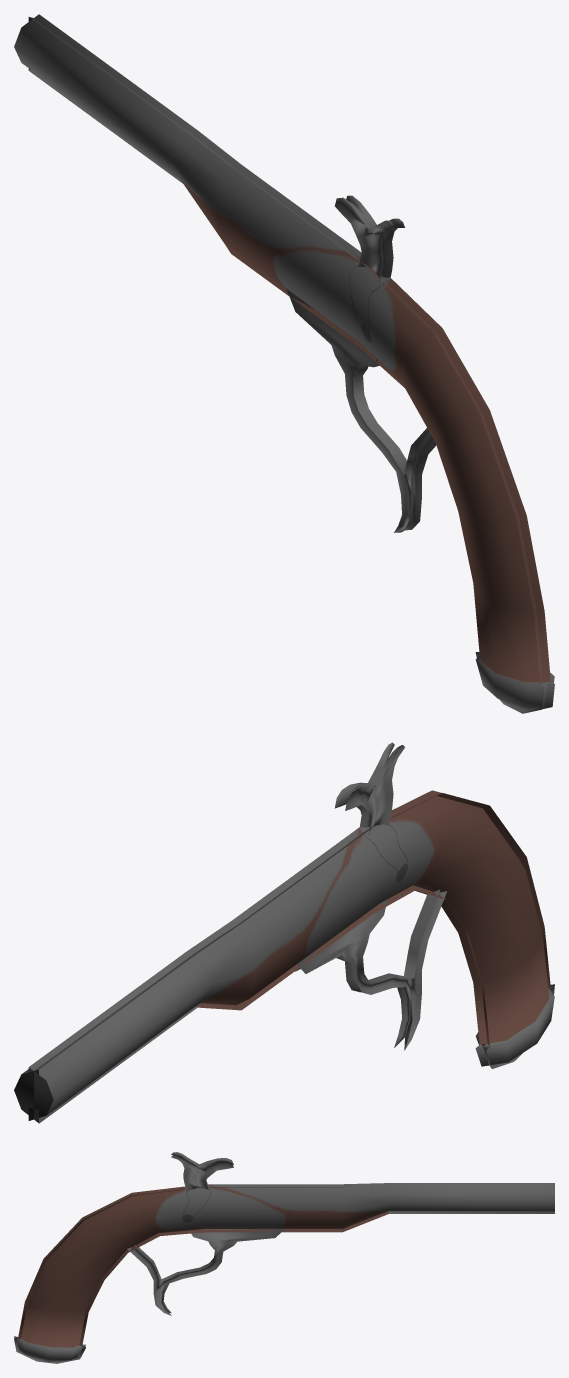
File: RangedJack.fbx
3 views of the same model, one above another, from view 1: azimuth 30°, elevation 25°; view 2: azimuth 150°, elevation 25°; view 3: azimuth 270°, elevation 25° (orthographic). The views are drawn at different scales.
Parts seen in each view (by area): view 1: Circle; view 2: Circle; view 3: Circle.
Boxes of the visible parts, bbox=[...] form: Circle: bbox=[14, 14, 554, 713]; Circle: bbox=[14, 742, 554, 1123]; Circle: bbox=[14, 1152, 554, 1363].
Size of the model in its own units: 1.65 by 13.34 by 31.27.
